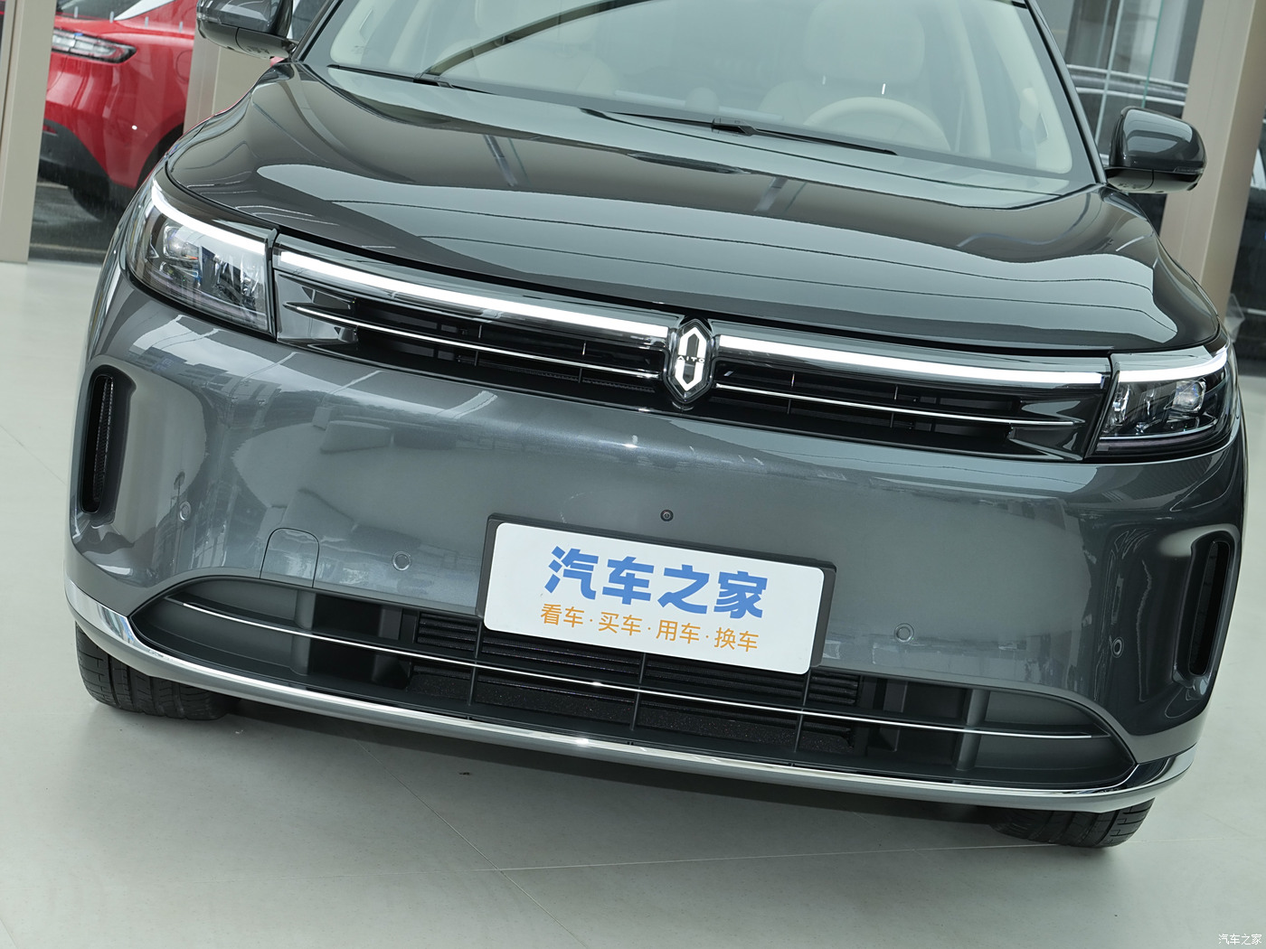AITO: (675, 328, 707, 390)
